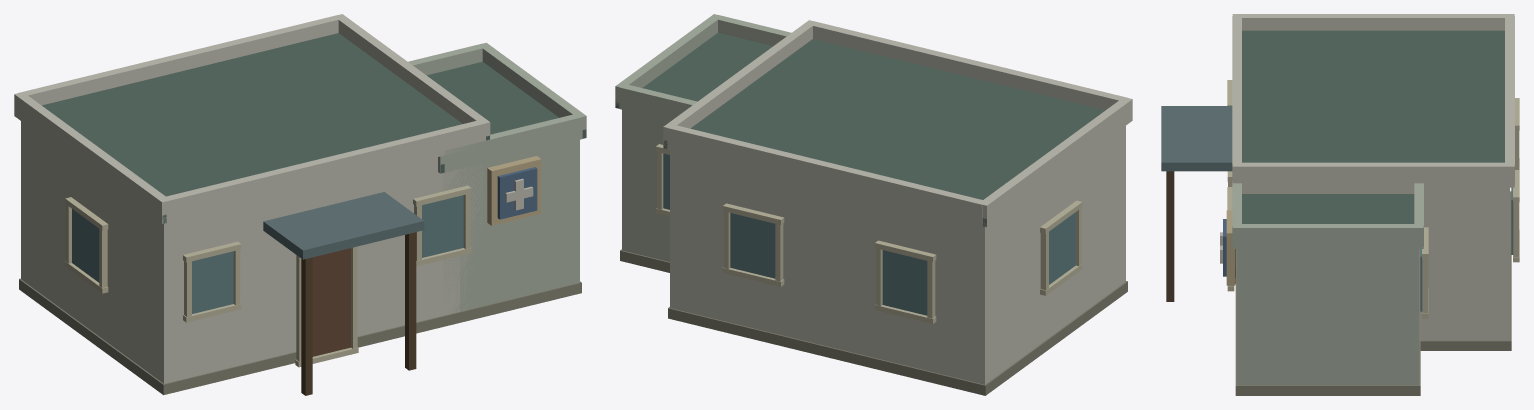
The model's file is Building_Settlement_VillageClinic_001_LOD1.glb.
The picture shows the model from 3 angles, left to right: view 1: azimuth 30°, elevation 25°; view 2: azimuth 150°, elevation 25°; view 3: azimuth 270°, elevation 25°; orthographic projection. The views are drawn at different scales.
Parts seen in each view (by area): view 1: Building_Settlement_VillageClinic_001_LOD1; view 2: Building_Settlement_VillageClinic_001_LOD1; view 3: Building_Settlement_VillageClinic_001_LOD1.
Boxes of the visible parts, box(x1,y1,x2,y2) form: Building_Settlement_VillageClinic_001_LOD1: box(14, 14, 586, 395); Building_Settlement_VillageClinic_001_LOD1: box(615, 14, 1132, 395); Building_Settlement_VillageClinic_001_LOD1: box(1161, 14, 1519, 395).
Size of the model in its own units: 7.79 by 3.4 by 5.91.
